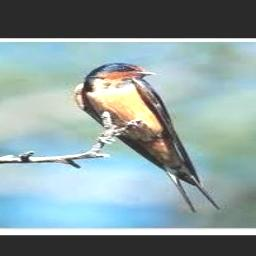Swallow: (74, 62, 221, 212)
